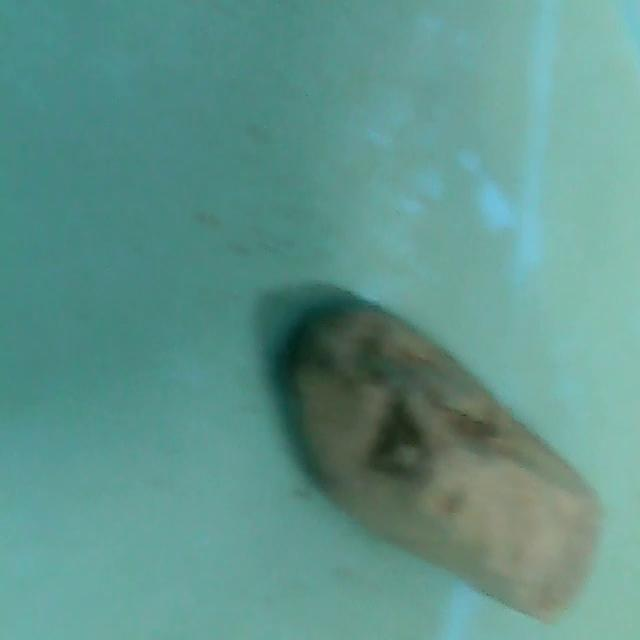rock: (275, 287, 612, 635)
